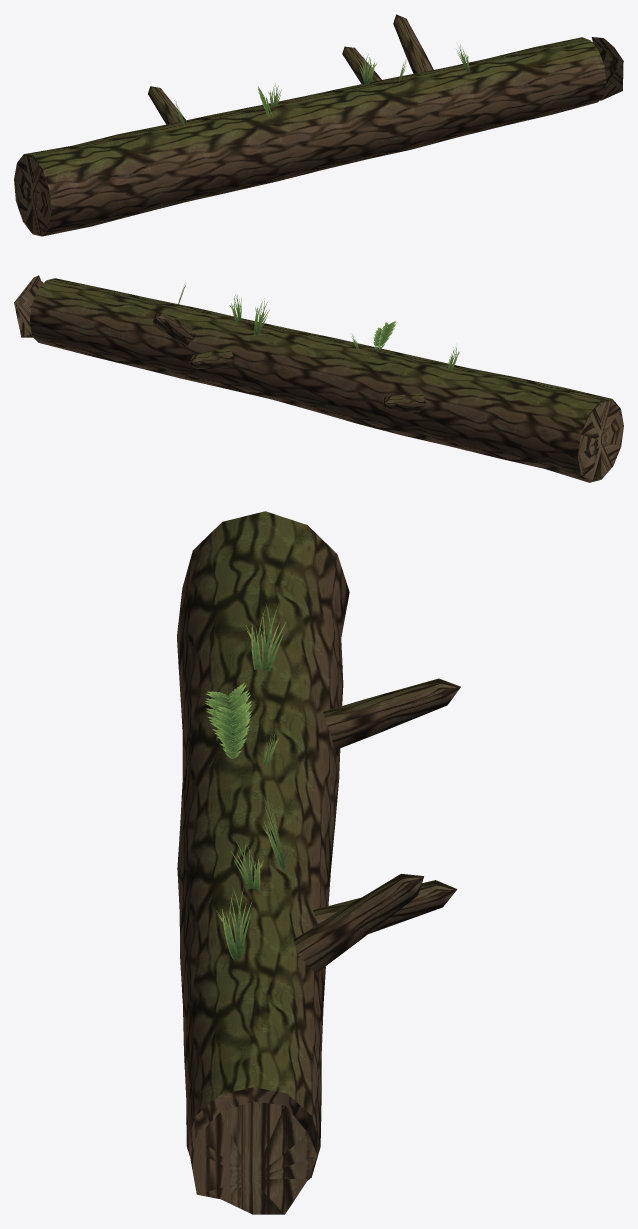
File: log_fallen.glb
The picture shows the model from 3 angles, top to bottom: view 1: azimuth 30°, elevation 25°; view 2: azimuth 150°, elevation 25°; view 3: azimuth 270°, elevation 25°; orthographic projection. The views are drawn at different scales.
Parts seen in each view (by area): view 1: wood, leaves; view 2: wood, leaves; view 3: wood, leaves.
Boxes of the visible parts, x1,y1,x2,y2 form: wood: [14, 14, 623, 236]; leaves: [174, 44, 469, 126]; wood: [14, 275, 623, 482]; leaves: [177, 282, 459, 370]; wood: [177, 511, 460, 1214]; leaves: [205, 604, 286, 959].
Bounding box in the file's own units: 4.47 × 0.7647 × 0.9335.
Materials: 2 (2 with a texture image).
